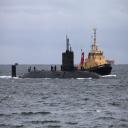submarine: (13, 41, 103, 80)
